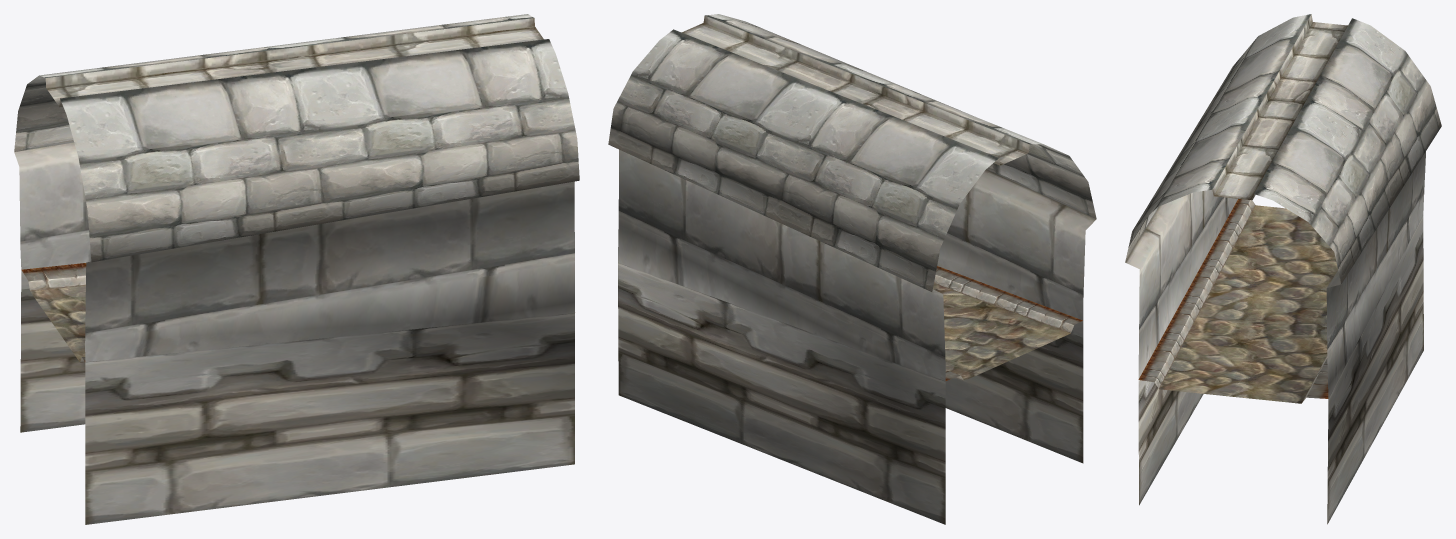
Rendered from stormwind_028.fbx.
3 renders of one model, left to right at view 1: azimuth 30°, elevation 25°; view 2: azimuth 150°, elevation 25°; view 3: azimuth 270°, elevation 25°, orthographic. The views are drawn at different scales.
Parts seen in each view (by area): view 1: stormwind_028_11, stormwind_028_4, stormwind_028_5, stormwind_028_46, stormwind_028_12; view 2: stormwind_028_11, stormwind_028_4, stormwind_028_5, stormwind_028_46, stormwind_028_12; view 3: stormwind_028_4, stormwind_028_11, stormwind_028_46, stormwind_028_5, stormwind_028_12.
Boxes of the visible parts, left/top/right/bottom form: stormwind_028_11: left=14, top=142, right=574, bottom=524; stormwind_028_4: left=14, top=14, right=579, bottom=262; stormwind_028_5: left=45, top=18, right=543, bottom=107; stormwind_028_46: left=30, top=285, right=85, bottom=361; stormwind_028_12: left=21, top=263, right=86, bottom=362; stormwind_028_11: left=618, top=149, right=1096, bottom=524; stormwind_028_4: left=608, top=14, right=1096, bottom=291; stormwind_028_5: left=682, top=16, right=1029, bottom=165; stormwind_028_46: left=933, top=283, right=1070, bottom=380; stormwind_028_12: left=934, top=266, right=1082, bottom=380; stormwind_028_4: left=1125, top=14, right=1441, bottom=283; stormwind_028_11: left=1125, top=151, right=1425, bottom=524; stormwind_028_46: left=1159, top=205, right=1337, bottom=403; stormwind_028_5: left=1212, top=14, right=1347, bottom=200; stormwind_028_12: left=1138, top=199, right=1328, bottom=402.
Size of the model in its own units: 20.7 by 15.95 by 14.1.
